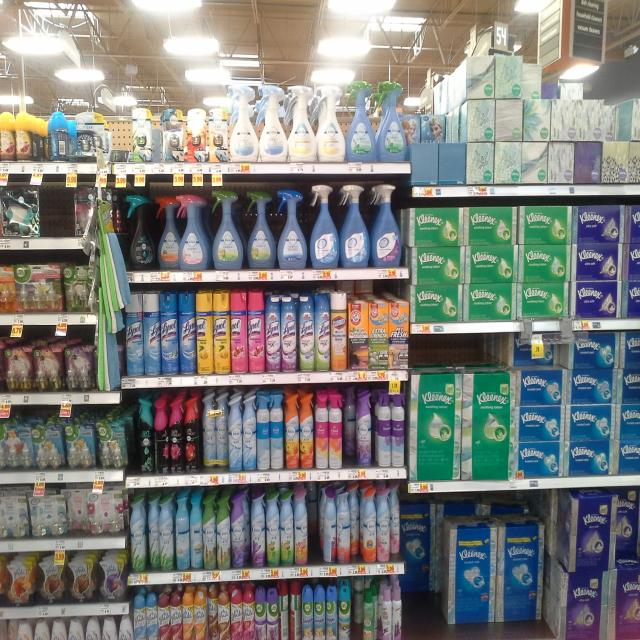empty: (41, 181, 78, 245)
